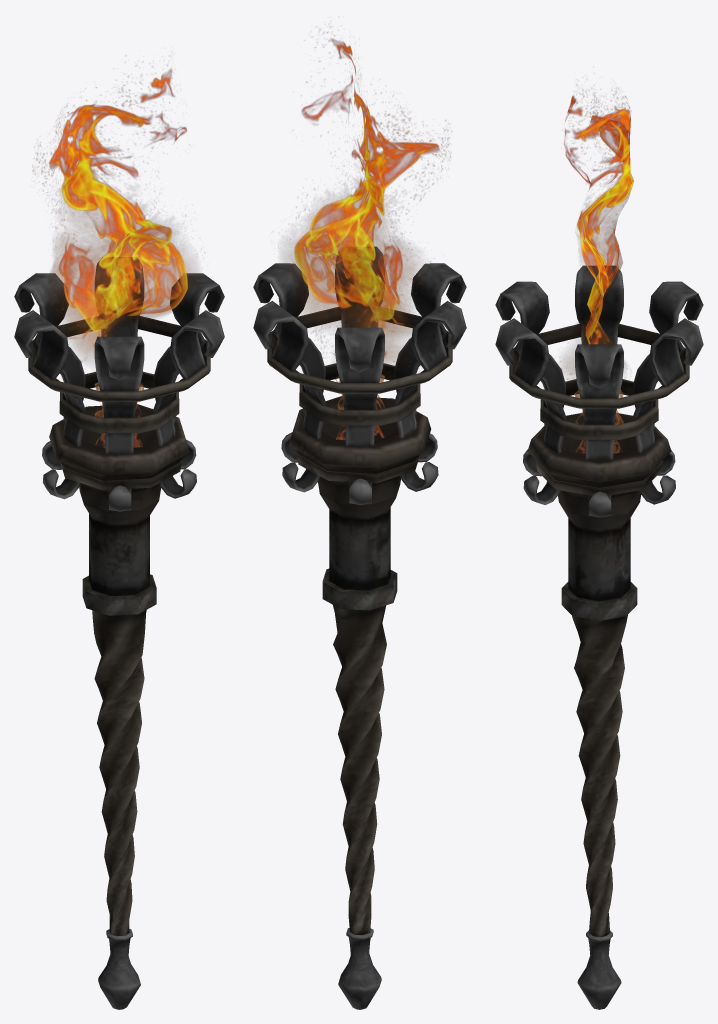
Rendered from torch.glb.
3 views of the same model, side by side, from view 1: azimuth 30°, elevation 25°; view 2: azimuth 150°, elevation 25°; view 3: azimuth 270°, elevation 25° (orthographic). The views are drawn at different scales.
Visible parts, largest first — view 1: Object_3, Object_2; view 2: Object_3, Object_2; view 3: Object_3, Object_2.
Part boxes in pixels (x1,y1,x2,y2): Object_3: (14, 257, 224, 1009); Object_2: (32, 65, 196, 448); Object_3: (253, 246, 466, 1009); Object_2: (283, 26, 450, 439); Object_3: (495, 265, 703, 1009); Object_2: (557, 84, 633, 453).
Size of the model in its own units: 19.22 by 88.87 by 17.6.
2 materials, 2 textured.
